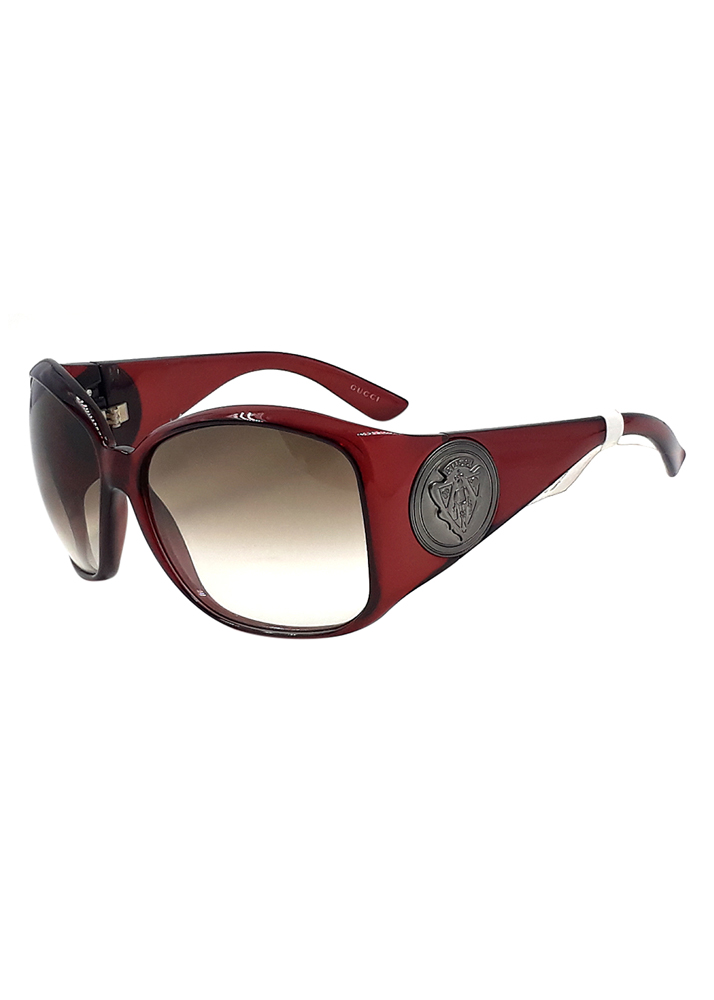Gucci: (341, 375, 392, 408)
